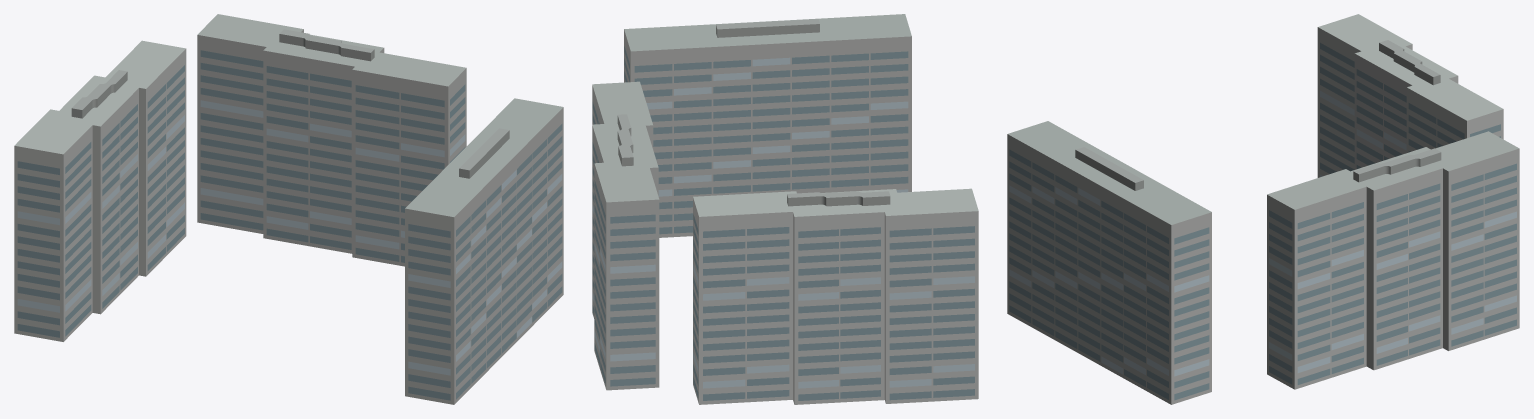
The model's file is apt-a15081503.glb.
3 views of the same model, side by side, from view 1: azimuth 30°, elevation 25°; view 2: azimuth 150°, elevation 25°; view 3: azimuth 270°, elevation 25° (orthographic). The views are drawn at different scales.
Visible parts, largest first — view 1: apt-a15081503; view 2: apt-a15081503; view 3: apt-a15081503.
Part boxes in pixels (x1,y1,x2,y2): apt-a15081503: [14, 14, 563, 404]; apt-a15081503: [592, 14, 978, 404]; apt-a15081503: [1007, 14, 1519, 404].
Size of the model in its own units: 115 by 47.81 by 118.
